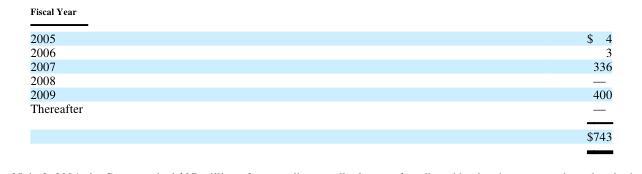table: (29, 28, 611, 143)
table column: (29, 28, 333, 143), (333, 28, 611, 143)
table row: (29, 120, 611, 143), (29, 99, 611, 120), (29, 28, 611, 44), (29, 57, 611, 71), (29, 71, 611, 85), (29, 85, 611, 99), (29, 44, 611, 57)
